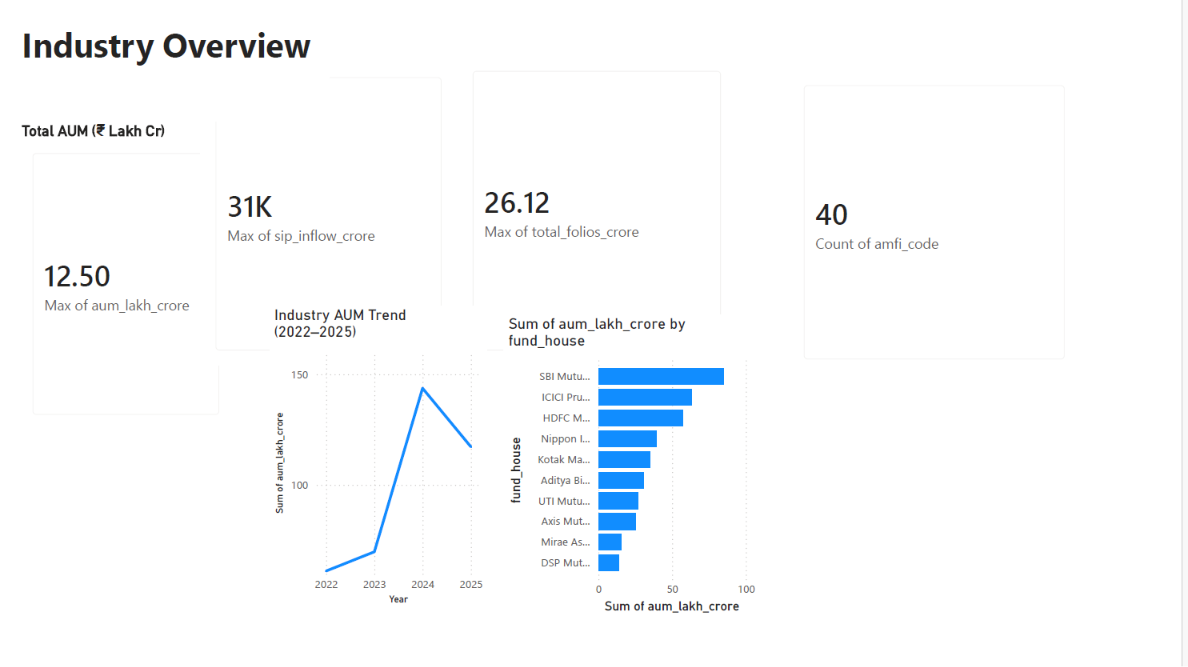

The dashboard page shown, as its layout file describes it:
{"tool":"powerbi","page":{"name":"Industry Overview","canvas":[1280,720],"ordinal":0},"visuals":[{"type":"cardVisual","title":"Total AUM (₹ Lakh Cr)","fields":{"Data":["Max(03_aum_by_fund_house.aum_lakh_crore)"]},"box":[0,116.2,243.8,346.2],"z":0},{"type":"cardVisual","fields":{"Data":["Max(04_monthly_sip_inflows.sip_inflow_crore)"]},"box":[205,50,287.5,340],"z":1000},{"type":"cardVisual","fields":{"Data":["Max(06_industry_folio_count.total_folios_crore)"]},"box":[492.5,42.5,312.5,347.5],"z":2000},{"type":"cardVisual","fields":{"Data":["CountNonNull(01_fund_master.amfi_code)"]},"box":[863.8,58.8,326.2,341.2],"z":3000},{"type":"lineChart","title":"Industry AUM Trend (2022–2025)","fields":{"Category":["03_aum_by_fund_house.date.Variation.Date Hierarchy.Year","03_aum_by_fund_house.date.Variation.Date Hierarchy.Quarter","03_aum_by_fund_house.date.Variation.Date Hierarchy.Month","03_aum_by_fund_house.date.Variation.Date Hierarchy.Day"],"Y":["Sum(03_aum_by_fund_house.aum_lakh_crore)"]},"box":[282.5,322.5,243.8,340],"z":4000},{"type":"clusteredBarChart","fields":{"Category":["03_aum_by_fund_house.fund_house"],"Y":["Sum(03_aum_by_fund_house.aum_lakh_crore)"]},"box":[545,332.5,286.2,340],"z":5000},{"type":"textbox","box":[0,0,348.8,116.2],"z":5001}]}

Visuals, with their boxes in screenshot pixels (x1, y1, x2, y2), scaled from the page's 1280x720 canvas onto the 1188x667 screenshot:
"Total AUM (₹ Lakh Cr)" cardVisual: [0,108,226,428]
cardVisual - Max(04_monthly_sip_inflows.sip_inflow_crore): [190,46,457,361]
cardVisual - Max(06_industry_folio_count.total_folios_crore): [457,39,747,361]
cardVisual - CountNonNull(01_fund_master.amfi_code): [802,54,1104,371]
"Industry AUM Trend (2022–2025)" lineChart: [262,299,488,614]
clusteredBarChart - 03_aum_by_fund_house.fund_house x Sum(03_aum_by_fund_house.aum_lakh_crore): [506,308,771,623]
textbox: [0,0,324,108]
